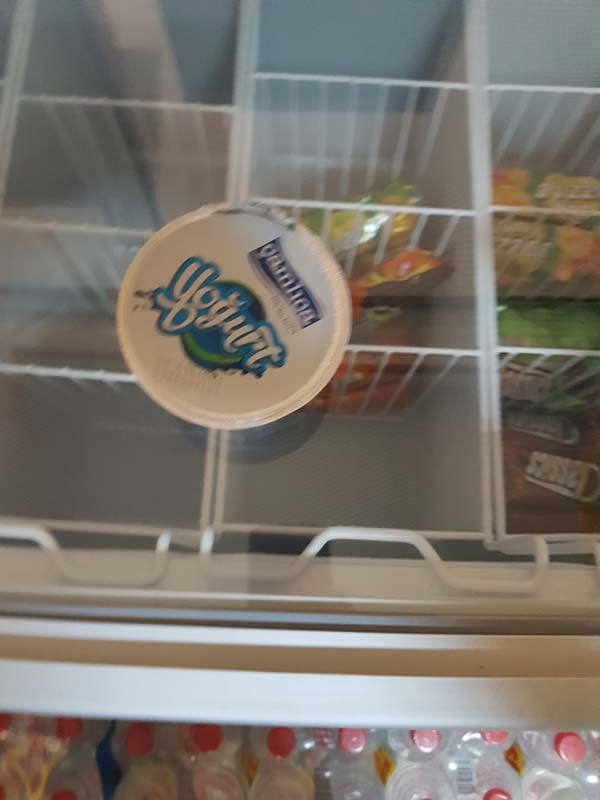camlicayogurt: (116, 199, 356, 431)
